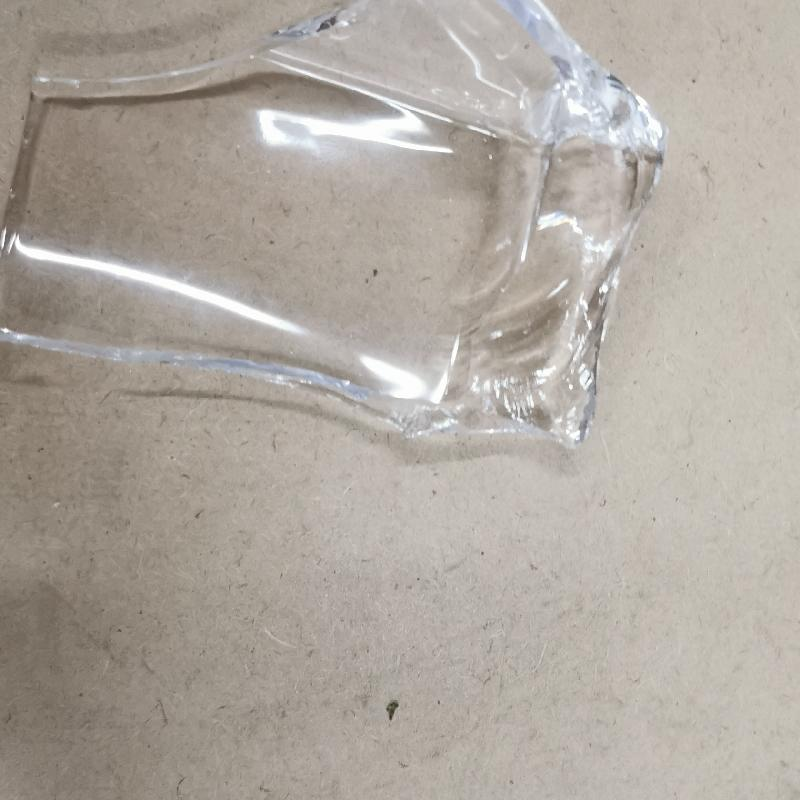glass: (3, 4, 667, 448)
